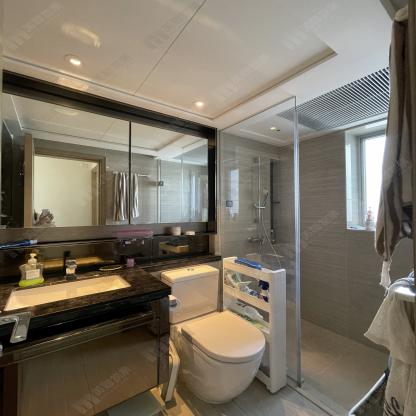Toilet: (160, 264, 268, 405)
Toilet Sink: (3, 273, 138, 316)
Water Cubicle: (219, 50, 416, 416)
